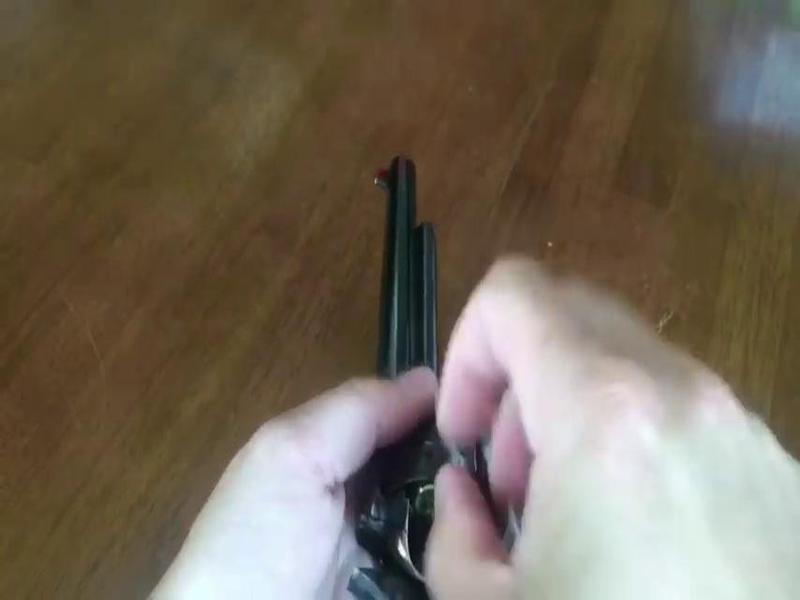Revolver: (277, 123, 567, 600)
